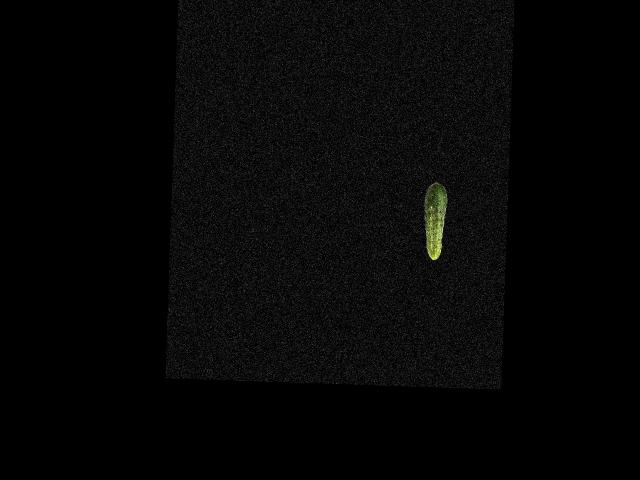cucumber: (421, 181, 447, 259)
